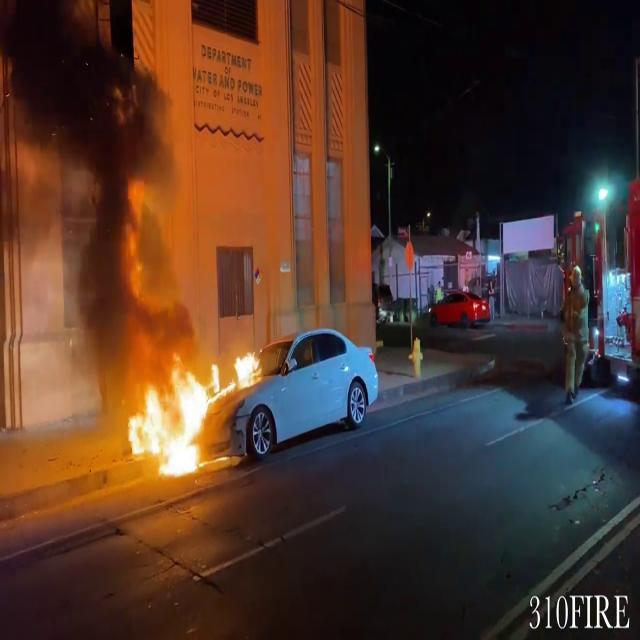Fire: (108, 339, 226, 477)
Smoke: (0, 0, 196, 362)
